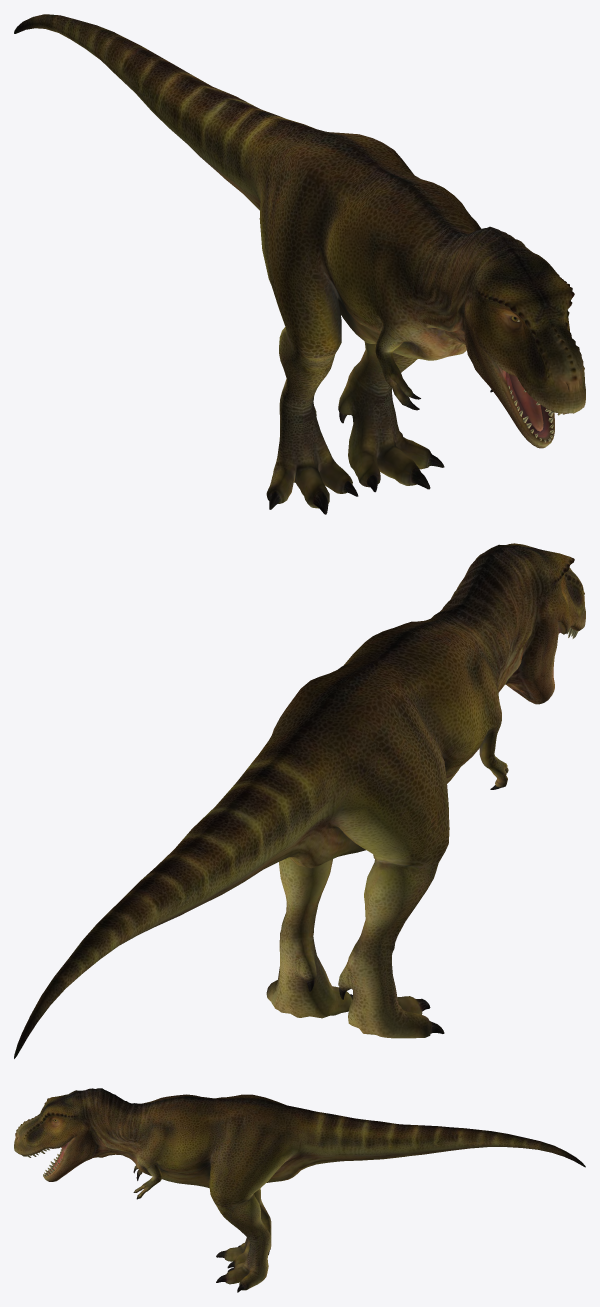
Rendered from TyrannosaurusRex.obj.
3 renders of one model, top to bottom at view 1: azimuth 30°, elevation 25°; view 2: azimuth 150°, elevation 25°; view 3: azimuth 270°, elevation 25°, orthographic. The views are drawn at different scales.
Parts seen in each view (by area): view 1: TyrannosaurusRex_LowPoly_ncl1_1; view 2: TyrannosaurusRex_LowPoly_ncl1_1; view 3: TyrannosaurusRex_LowPoly_ncl1_1.
Boxes of the visible parts, <box> form: TyrannosaurusRex_LowPoly_ncl1_1: <box>14,14,585,514</box>; TyrannosaurusRex_LowPoly_ncl1_1: <box>14,543,585,1058</box>; TyrannosaurusRex_LowPoly_ncl1_1: <box>14,1088,585,1292</box>.
Size of the model in its own units: 7 by 13.88 by 39.14.
